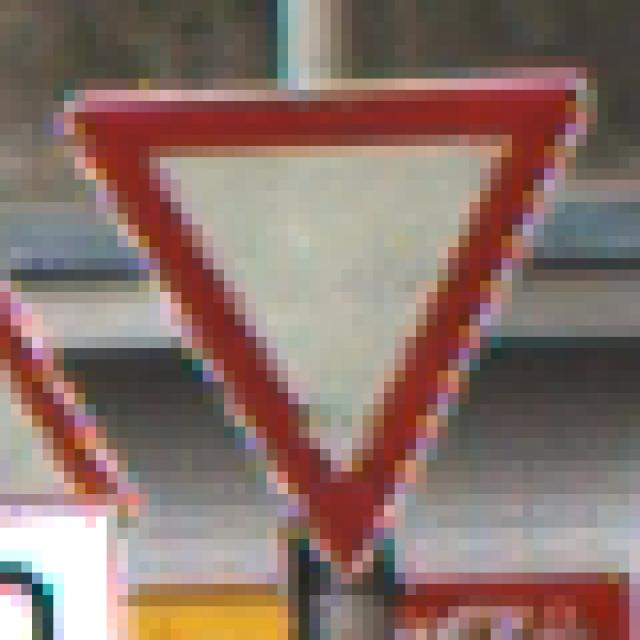Give Way: (54, 57, 588, 574)
